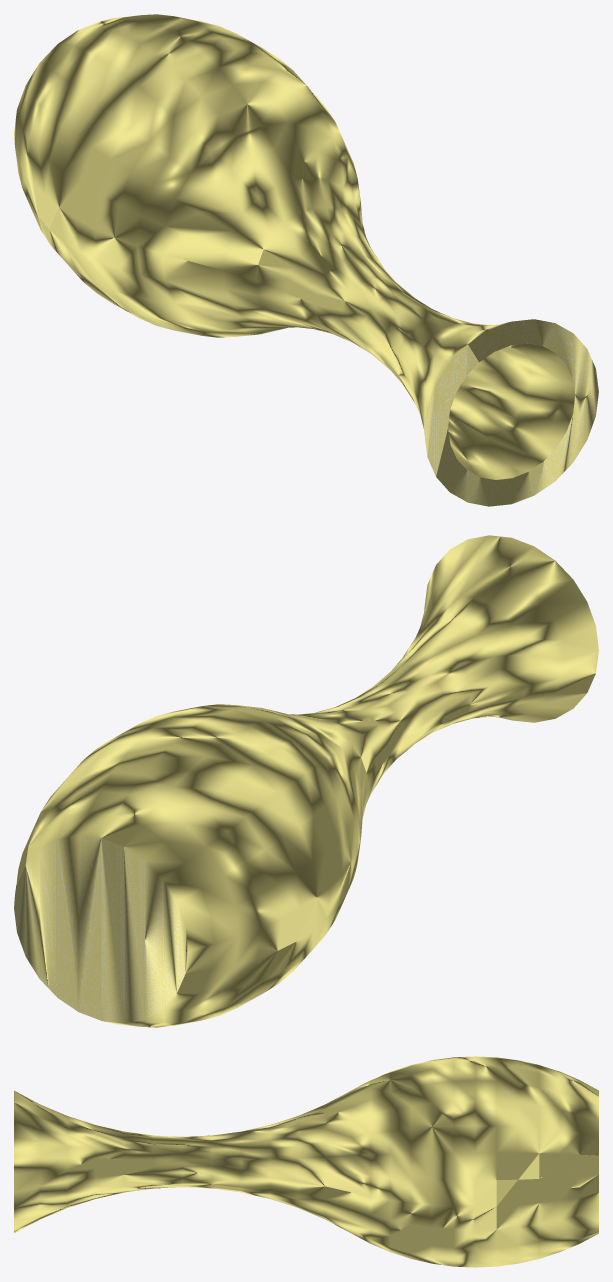
File: model_align.obj
3 views of the same model, one above another, from view 1: azimuth 30°, elevation 25°; view 2: azimuth 150°, elevation 25°; view 3: azimuth 270°, elevation 25° (orthographic). The views are drawn at different scales.
Size of the model in its own units: 0.0733 by 0.0733 by 0.2022.
